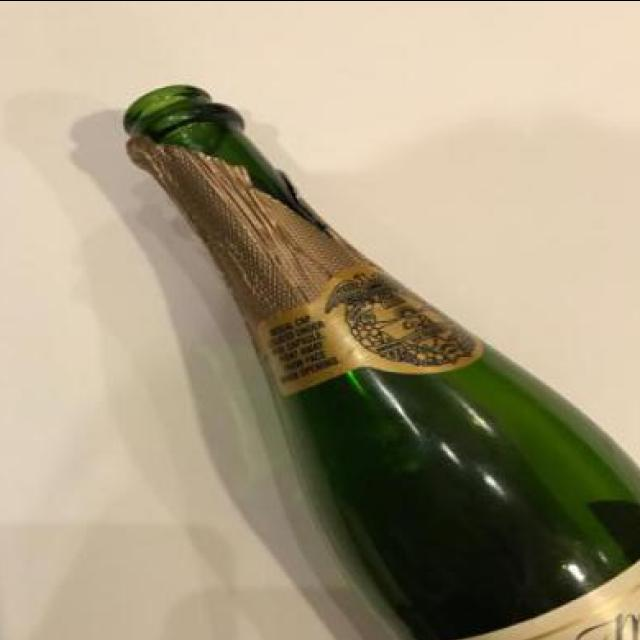kaca: (123, 82, 640, 640)
